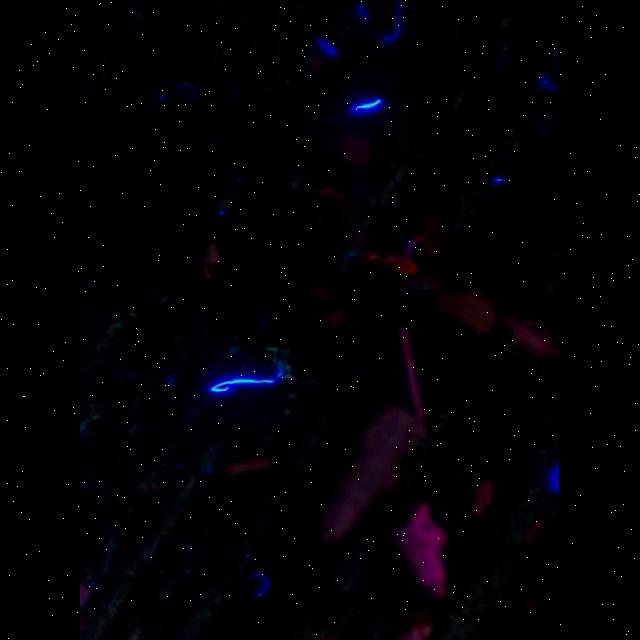Fragment: (322, 407, 426, 542)
